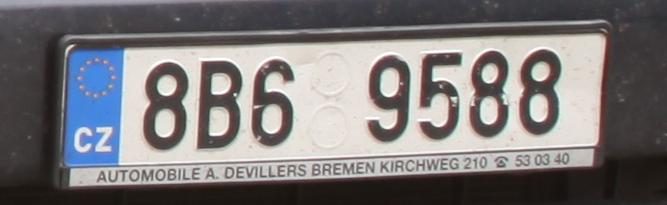5: (421, 46, 464, 145)
6: (361, 56, 413, 145), (248, 59, 298, 151)
8: (138, 59, 193, 153), (468, 51, 512, 143), (521, 47, 562, 136)
B: (198, 57, 242, 153)
